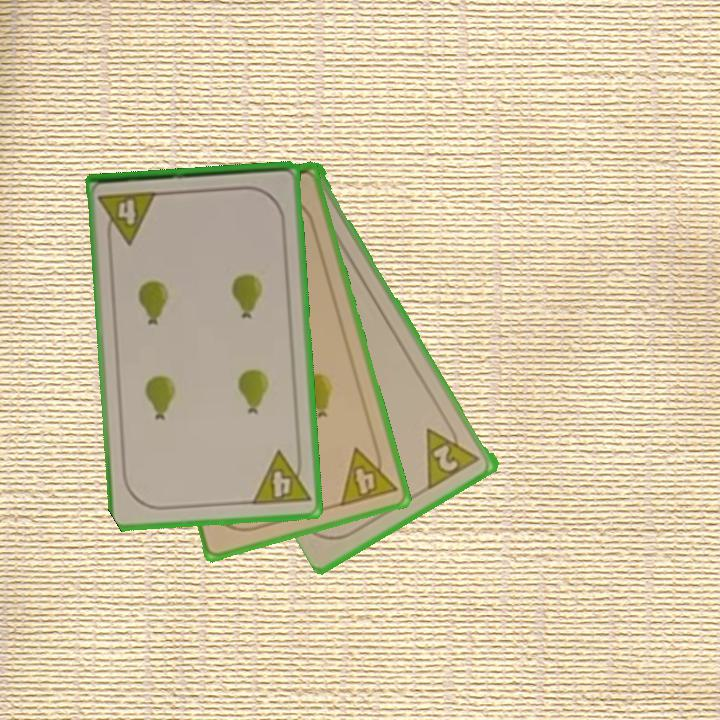2p: (422, 416, 483, 492)
4p: (336, 439, 400, 510), (248, 446, 313, 509), (95, 188, 160, 248)
